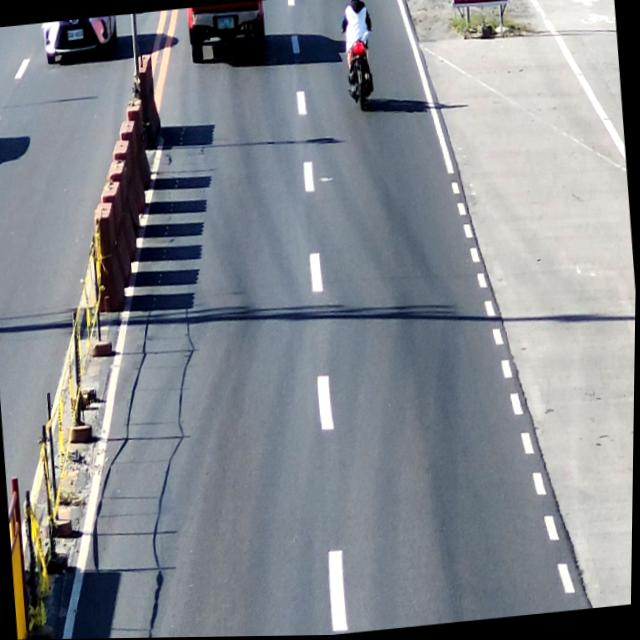Car: (182, 0, 268, 69), (44, 15, 123, 73)
License-Plate: (213, 11, 240, 34), (62, 24, 86, 43)
Motorcycle: (336, 0, 380, 111)
